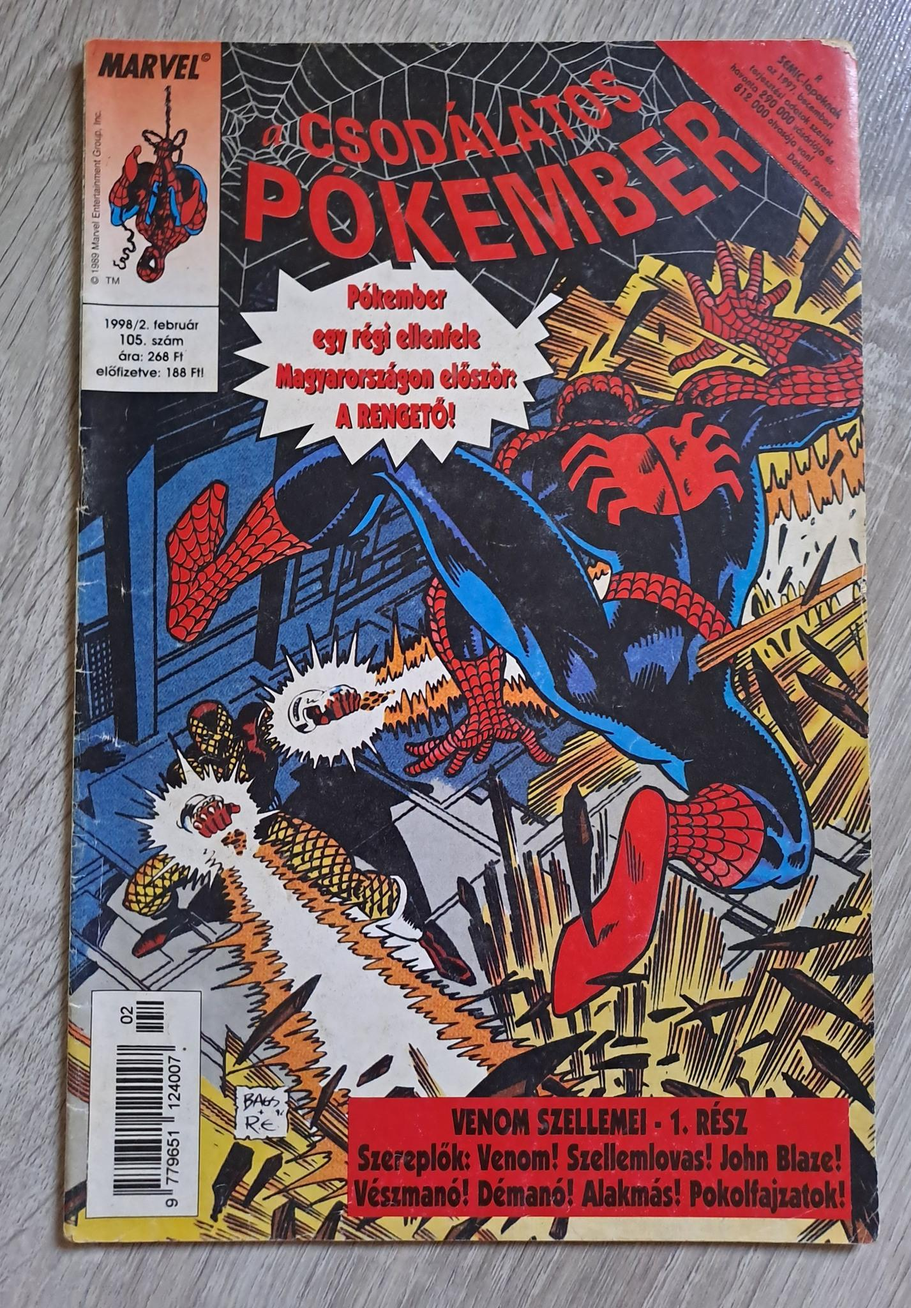comic: (65, 39, 880, 1243)
